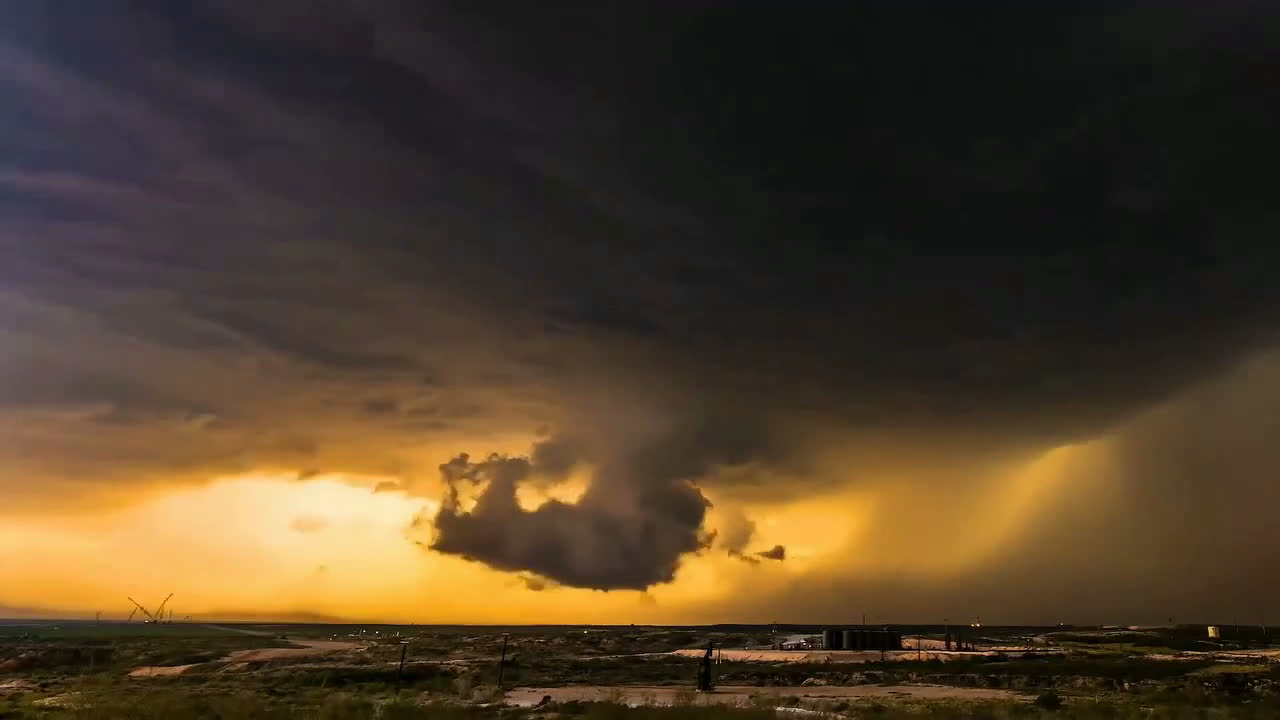RFD: (687, 346, 1279, 625)
mesocyclone: (39, 0, 1244, 437)
wall cloud: (413, 431, 785, 590)
